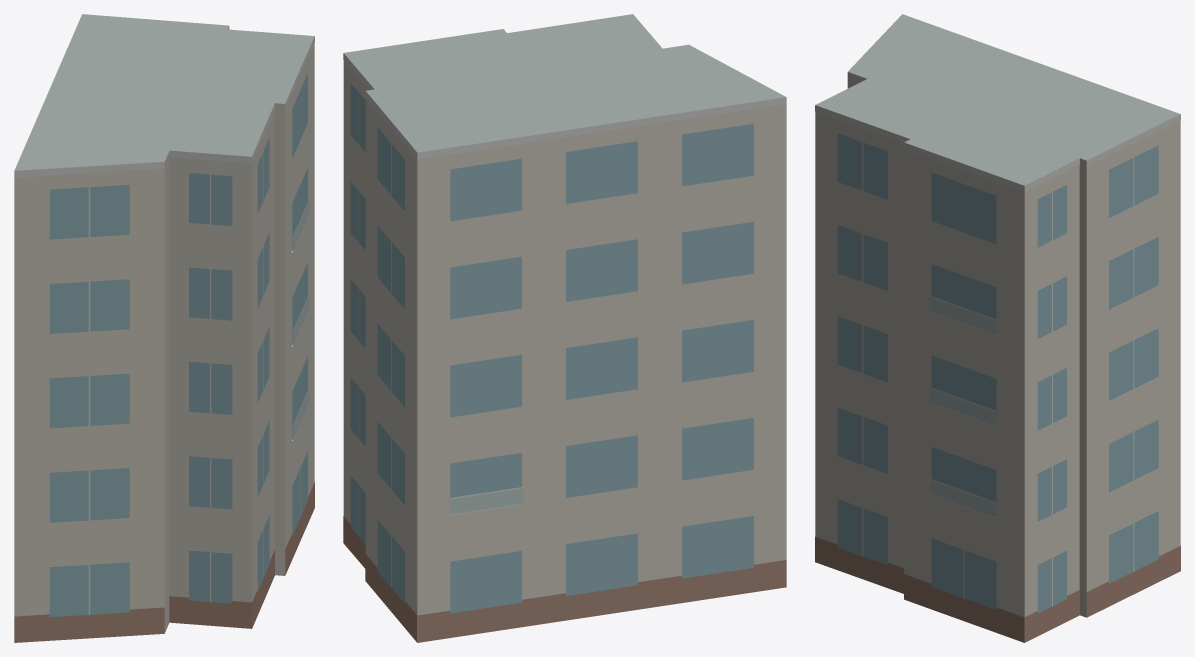
Rendered from survey-upis-33022461.glb.
The picture shows the model from 3 angles, left to right: view 1: azimuth 30°, elevation 25°; view 2: azimuth 150°, elevation 25°; view 3: azimuth 270°, elevation 25°; orthographic projection. The views are drawn at different scales.
Parts seen in each view (by area): view 1: survey-upis-33022461.tmp; view 2: survey-upis-33022461.tmp; view 3: survey-upis-33022461.tmp.
Boxes of the visible parts, bbox=[...] form: survey-upis-33022461.tmp: bbox=[14, 14, 314, 642]; survey-upis-33022461.tmp: bbox=[343, 14, 786, 642]; survey-upis-33022461.tmp: bbox=[815, 14, 1180, 642].
Bounding box in the file's own units: 13.55 × 16.8 × 12.18.
